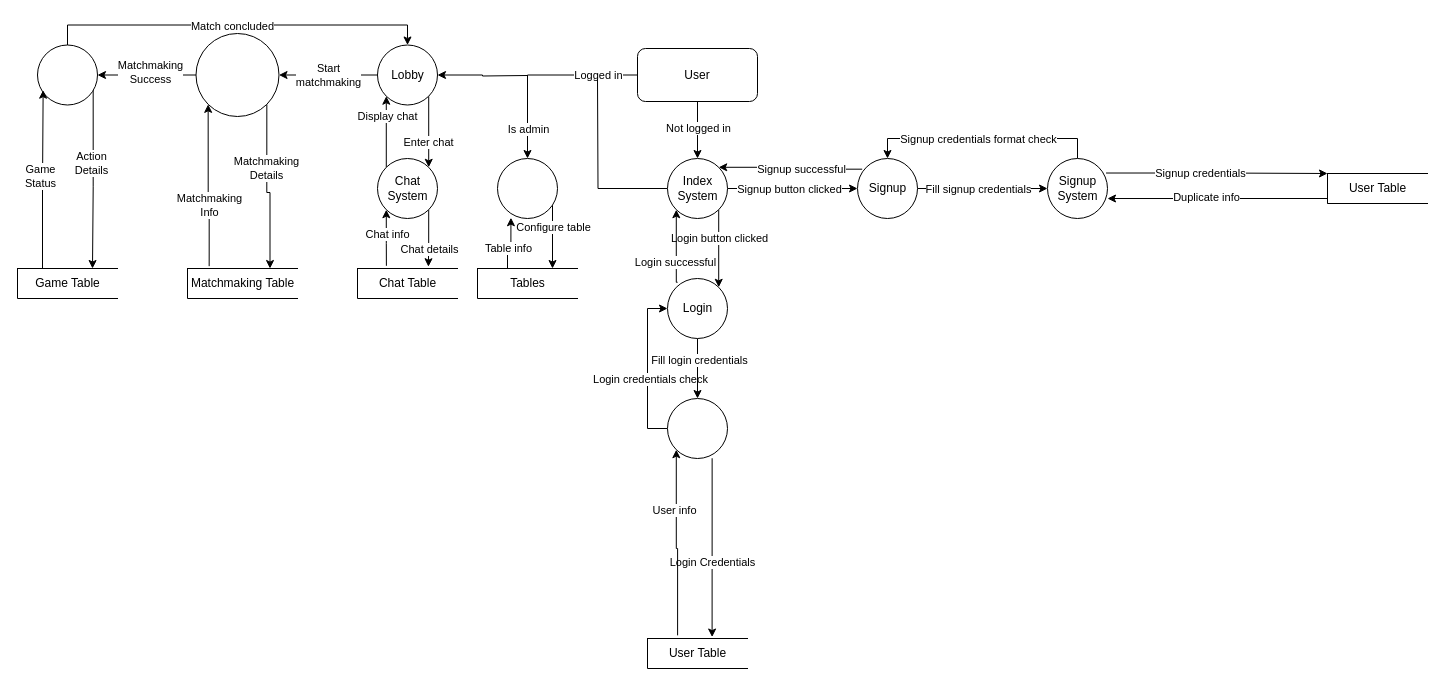
The diagram is 1445 pixels wide and 686 high, and some of its shapes have lost their labels. The centre of each missing label's shape, as x and y in pixels:
"Admin function" goes at (x=527, y=188).
"Game System" goes at (x=67, y=74).
"Login System" goes at (x=697, y=428).
"Matchmaking System" goes at (x=237, y=74).
